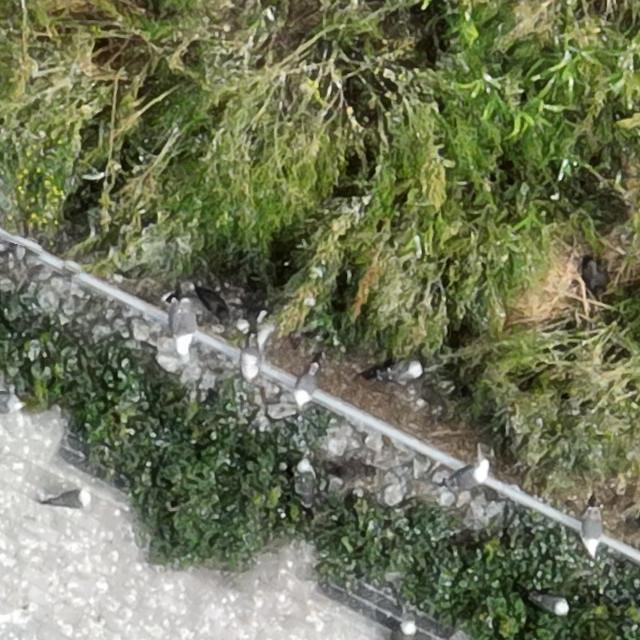umineko: (172, 295, 196, 360), (290, 460, 320, 507), (238, 339, 265, 382), (445, 467, 488, 488), (582, 509, 602, 553), (296, 363, 318, 401), (47, 492, 90, 510), (387, 362, 423, 382), (534, 594, 568, 612), (395, 622, 421, 639)
